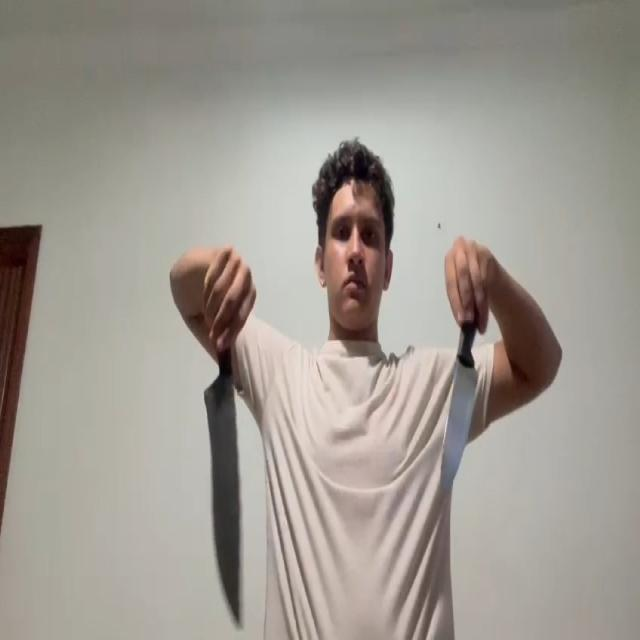knife: (202, 370, 242, 618), (439, 352, 481, 497)
